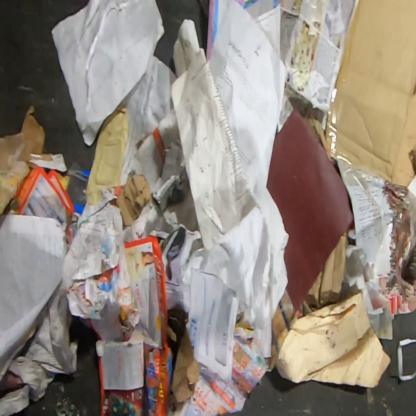cardboard: (266, 109, 354, 312), (325, 0, 415, 192), (0, 105, 46, 220), (86, 102, 129, 207), (303, 232, 349, 316), (263, 290, 296, 371), (170, 328, 201, 408), (116, 172, 152, 229), (307, 118, 336, 168), (28, 152, 68, 172)
soft_plastic: (66, 159, 90, 216)
